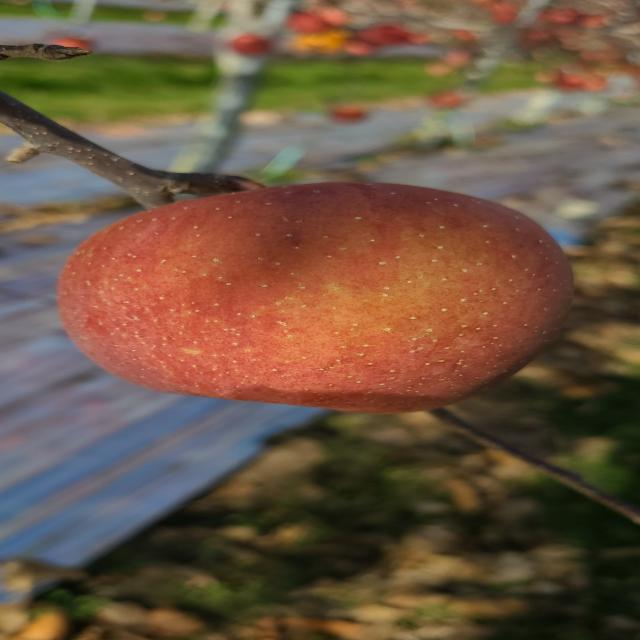fresh: (34, 173, 606, 420)
